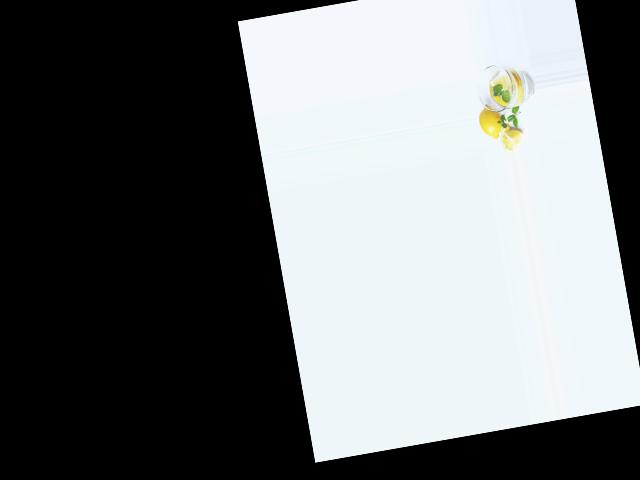lemon: (475, 99, 507, 140)
